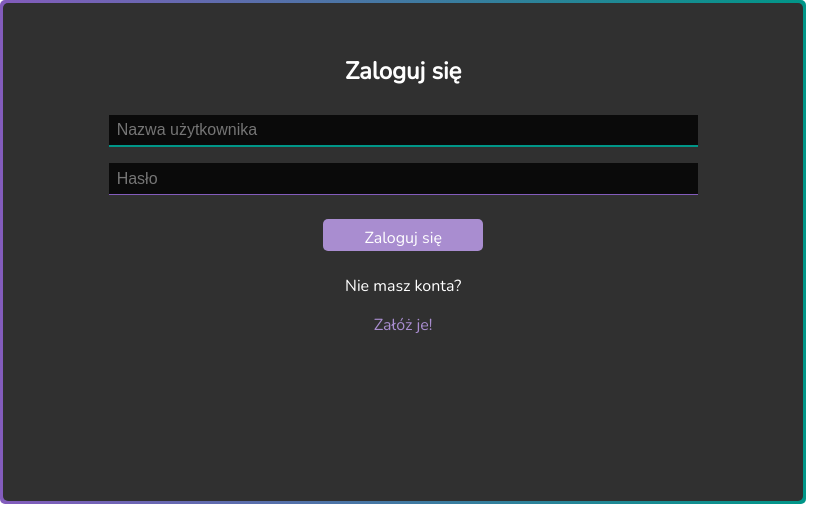
it: WelcomeBackdrop - AuthForm › should switch back to login form from registration form when clicked
Click the button "Załóż je!". click: click(403, 325)
box: [368,313,438,337]
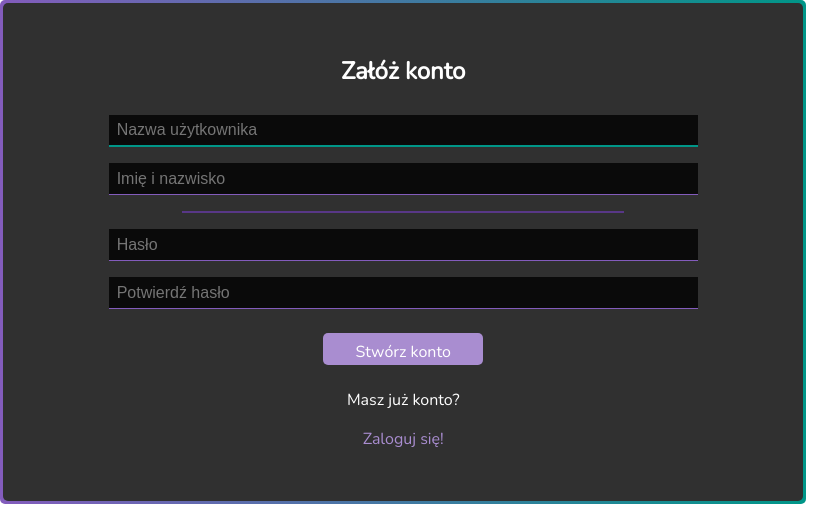
Now the heading "Załóż konto" is shown, box [341,55,465,87]
Click the button "Zaloguj się!". click: click(403, 439)
box: [357,427,450,451]
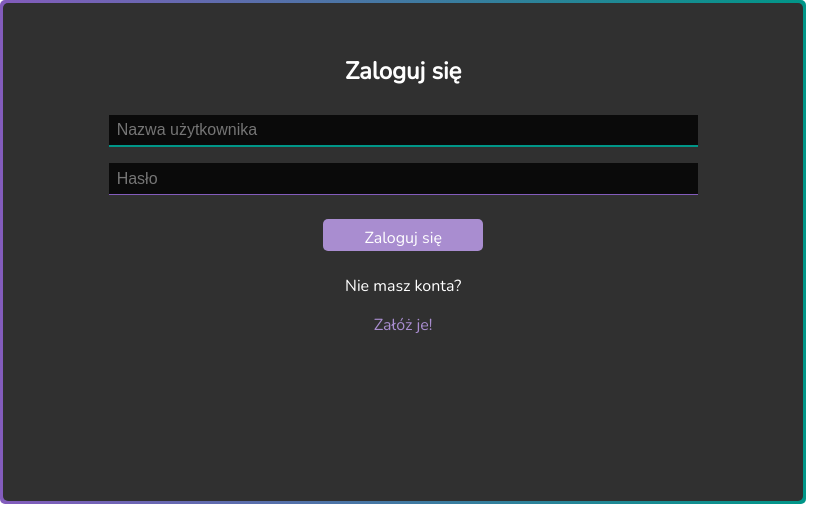
Now the heading "Zaloguj się" is shown, box [345,55,461,87]
